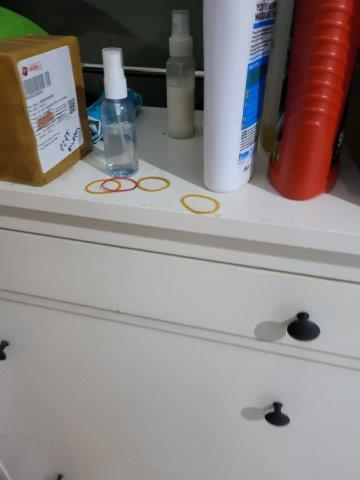karet: (178, 194, 220, 215), (101, 176, 139, 194), (136, 175, 171, 193), (87, 178, 120, 195)
